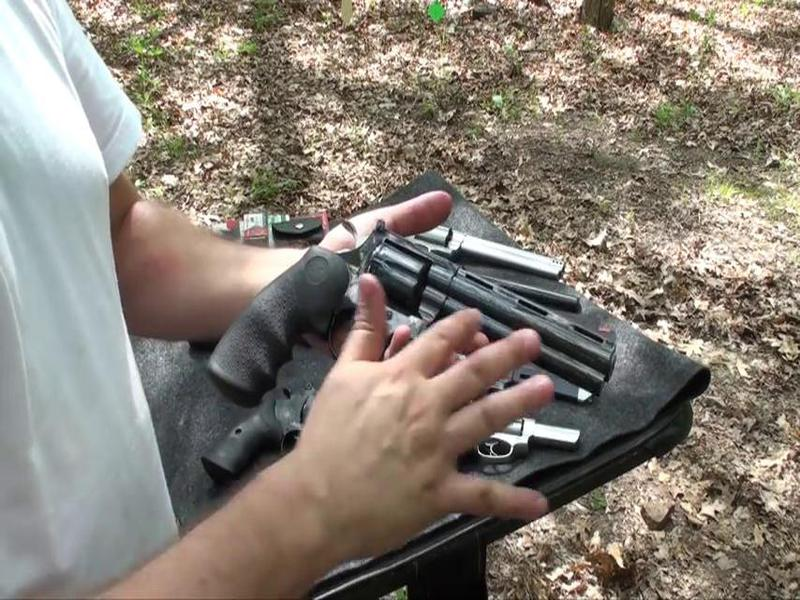Revolver: (184, 200, 622, 439)
